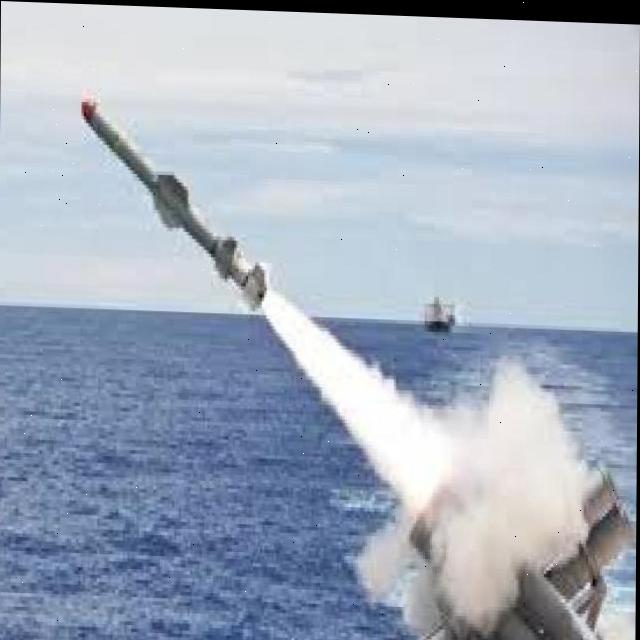missile: (76, 97, 275, 307)
